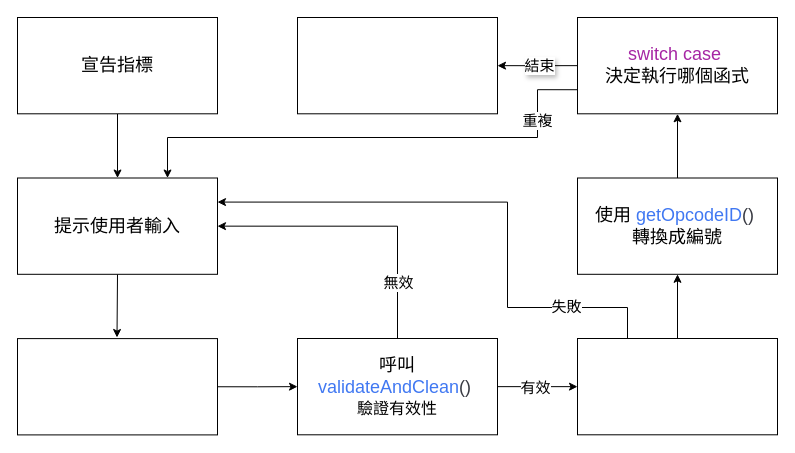
Image size: 795x453. Some labels were removed from this diagram. The centre of each missing label's shape, as x and y in pixels:
呼叫 parseInput ( ) 拆解成三項: point 677,386
讀取整行指令: point 117,386
釋放記憶體: point 397,65
